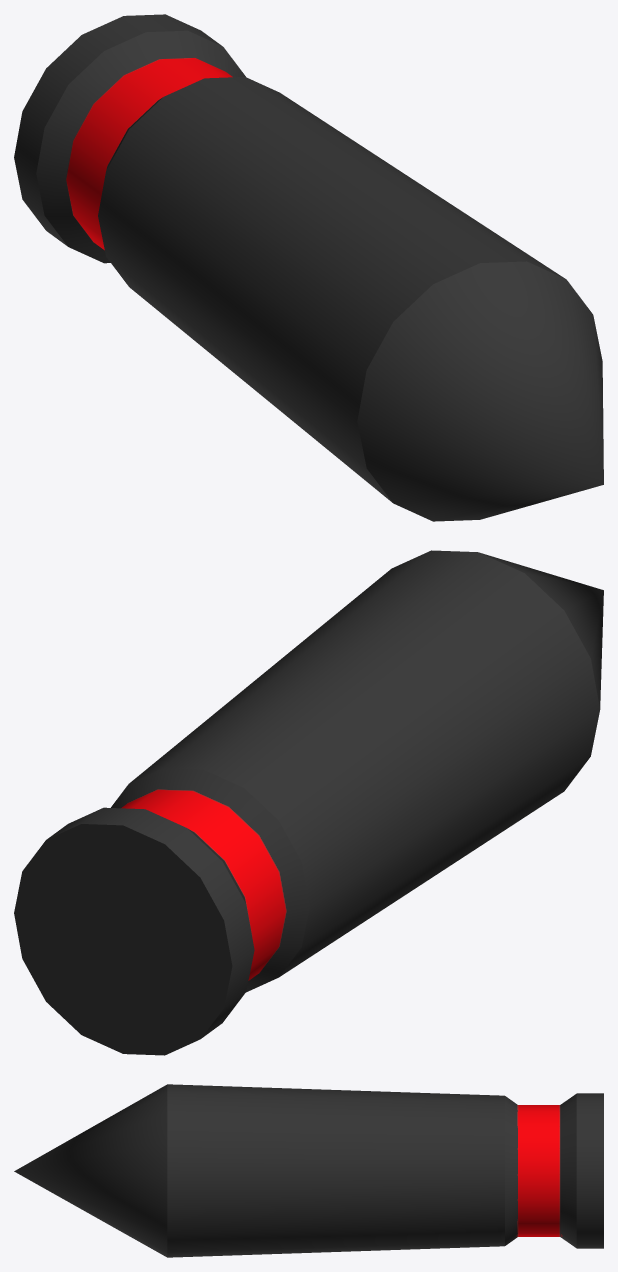
Rendered from Rocket.fbx.
3 renders of one model, top to bottom at view 1: azimuth 30°, elevation 25°; view 2: azimuth 150°, elevation 25°; view 3: azimuth 270°, elevation 25°, orthographic. The views are drawn at different scales.
Visible parts, largest first — view 1: Cone; view 2: Cone; view 3: Cone.
Boxes of the visible parts, x1,y1,x2,y2 form: Cone: (14, 14, 603, 521); Cone: (14, 550, 603, 1055); Cone: (14, 1084, 603, 1257).
Bounding box in the file's own units: 0.1752 × 0.1752 × 0.5955.
